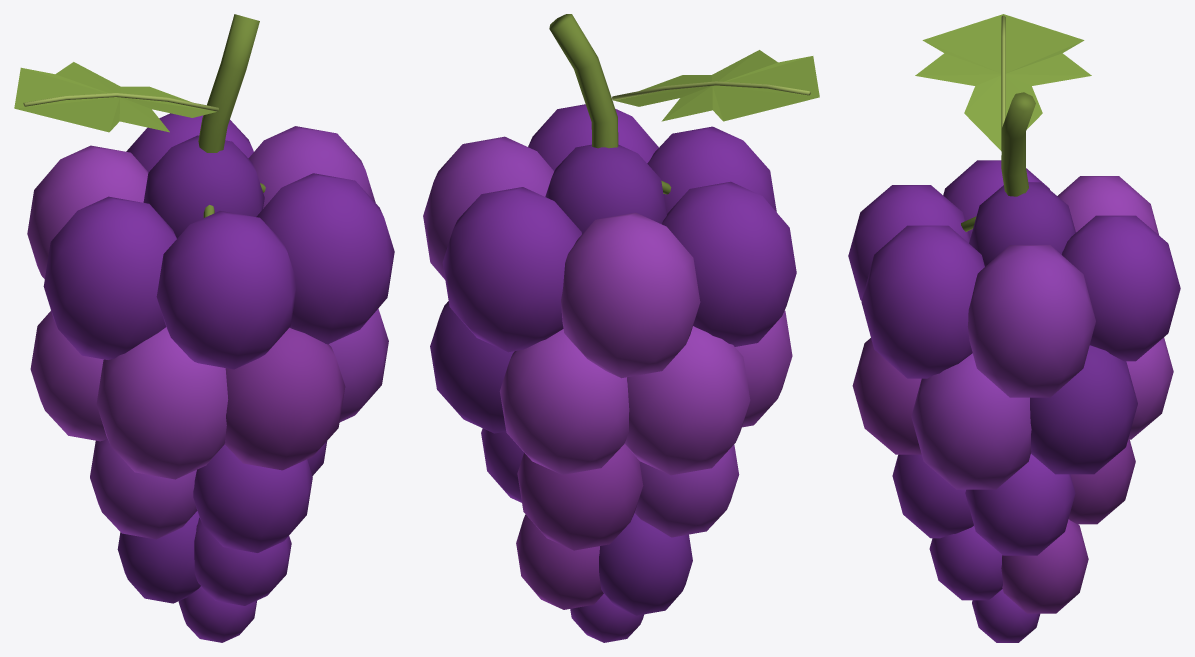
Rendered from grape_cluster.glb.
The picture shows the model from 3 angles, left to right: view 1: azimuth 30°, elevation 25°; view 2: azimuth 150°, elevation 25°; view 3: azimuth 270°, elevation 25°; orthographic projection. The views are drawn at different scales.
Visible parts, largest first — view 1: Grape_05, Grape_04, Grape_06, Grape_10, Grape_11, Grape_16, Grape_crown, Grape_03, Leaf, Grape_15, Grape_09, Grape_01 (+7 smaller); view 2: Grape_03, Grape_02, Grape_04, Grape_08, Grape_09, Grape_14, Grape_01, Grape_crown, Leaf, Grape_18, Grape_07, Grape_05 (+8 smaller); view 3: Grape_01, Grape_06, Grape_02, Grape_12, Leaf, Grape_07, Grape_13, Grape_crown, Grape_05, Grape_17, Grape_11, Grape_16 (+8 smaller).
Boxes of the visible parts, x1,y1,x2,y2 form: Grape_05: (156,211,296,369); Grape_04: (43,196,176,359); Grape_06: (256,173,394,344); Grape_10: (96,327,228,479); Grape_11: (224,327,345,470); Grape_16: (193,444,312,552); Grape_crown: (143,135,264,238); Grape_03: (27,145,148,278); Leaf: (14,62,216,132); Grape_15: (90,438,197,539); Grape_09: (30,311,106,441); Grape_01: (248,126,375,208); Grape_03: (561,212,700,378); Grape_02: (442,187,581,352); Grape_04: (662,181,796,346); Grape_08: (499,329,629,474); Grape_09: (624,326,750,475); Grape_14: (517,444,643,550); Grape_01: (423,136,553,279); Grape_crown: (545,144,666,233); Leaf: (614,50,819,121); Grape_18: (599,513,692,615); Grape_07: (430,301,514,433); Grape_05: (647,126,776,213); Grape_01: (967,245,1095,397); Grape_06: (861,225,984,378); Grape_02: (1062,215,1180,361); Grape_12: (911,353,1031,489); Leaf: (915,14,1091,150); Grape_07: (1030,345,1137,474); Grape_13: (965,454,1075,555); Grape_crown: (969,182,1075,266); Grape_05: (848,185,969,300); Grape_17: (1001,519,1088,613); Grape_11: (852,338,921,454); Grape_16: (892,454,973,538).
Bounding box in the file's own units: 0.377 × 0.6045 × 0.324.
